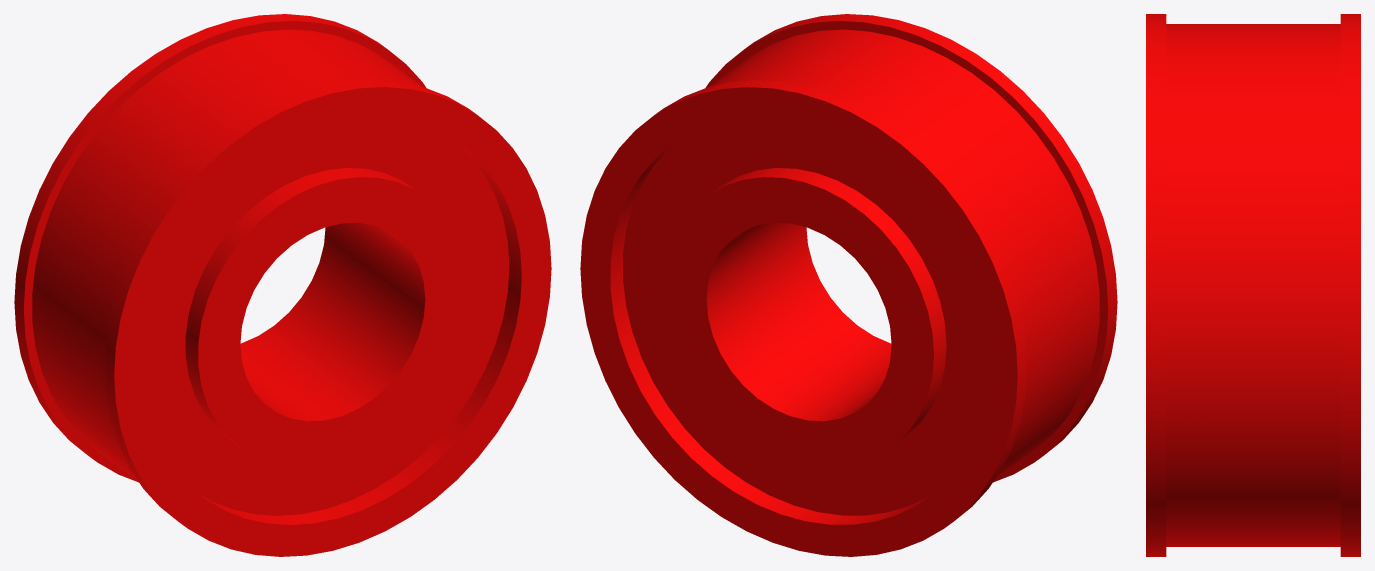
Rendered from Mock_Bearing.glb.
3 views of the same model, side by side, from view 1: azimuth 30°, elevation 25°; view 2: azimuth 150°, elevation 25°; view 3: azimuth 270°, elevation 25° (orthographic). The views are drawn at different scales.
Parts seen in each view (by area): view 1: Mock Bearing; view 2: Mock Bearing; view 3: Mock Bearing.
Part boxes in pixels (box(x1,y1,x2,y2)): Mock Bearing: box(14, 14, 551, 556); Mock Bearing: box(580, 14, 1117, 556); Mock Bearing: box(1146, 14, 1360, 556).
Bounding box in the file's own units: 0.0405 × 0.0405 × 0.016.
